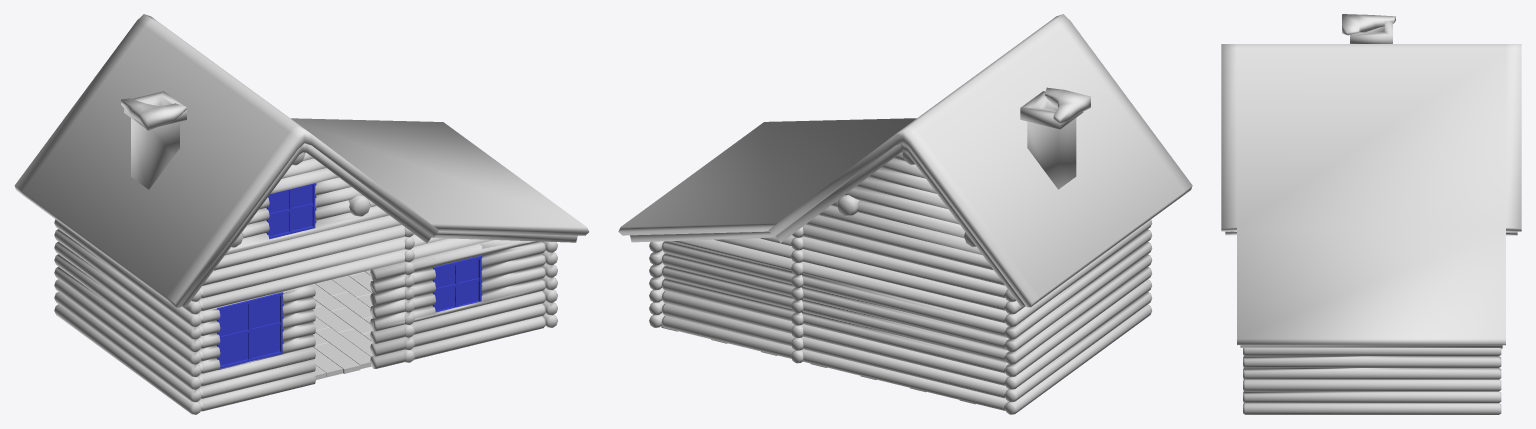
The model's file is SM_Cabinet.fbx.
The picture shows the model from 3 angles, left to right: view 1: azimuth 30°, elevation 25°; view 2: azimuth 150°, elevation 25°; view 3: azimuth 270°, elevation 25°; orthographic projection. The views are drawn at different scales.
Parts seen in each view (by area): view 1: SM_Cabinet[4], SM_Cabinet[2]; view 2: SM_Cabinet[4]; view 3: SM_Cabinet[4].
Part boxes in pixels (x1,y1,x2,y2): SM_Cabinet[4]: (14, 14, 589, 414); SM_Cabinet[2]: (201, 240, 543, 403); SM_Cabinet[4]: (618, 14, 1192, 414); SM_Cabinet[4]: (1221, 14, 1521, 414).
Size of the model in its own units: 2245 by 1367 by 1476.
